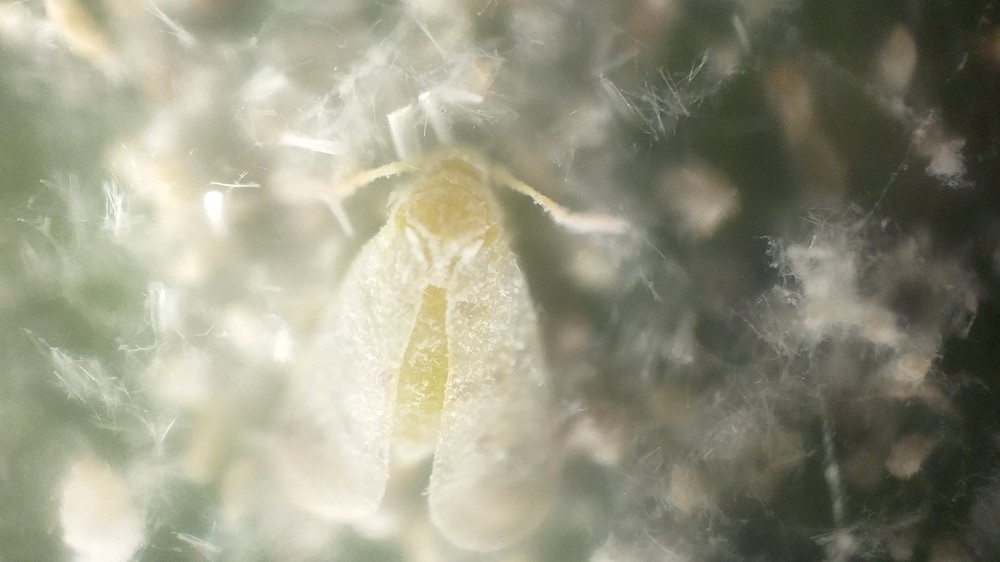Mosca Blanca: (248, 139, 671, 560)
